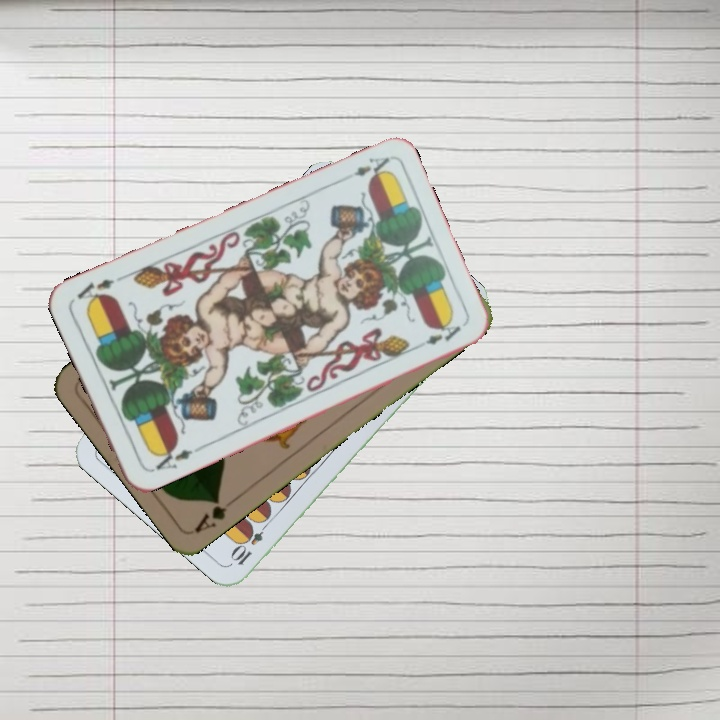E10: (228, 516, 273, 568)
EA: (336, 153, 392, 183), (147, 441, 195, 475)
GA: (190, 492, 240, 535)
